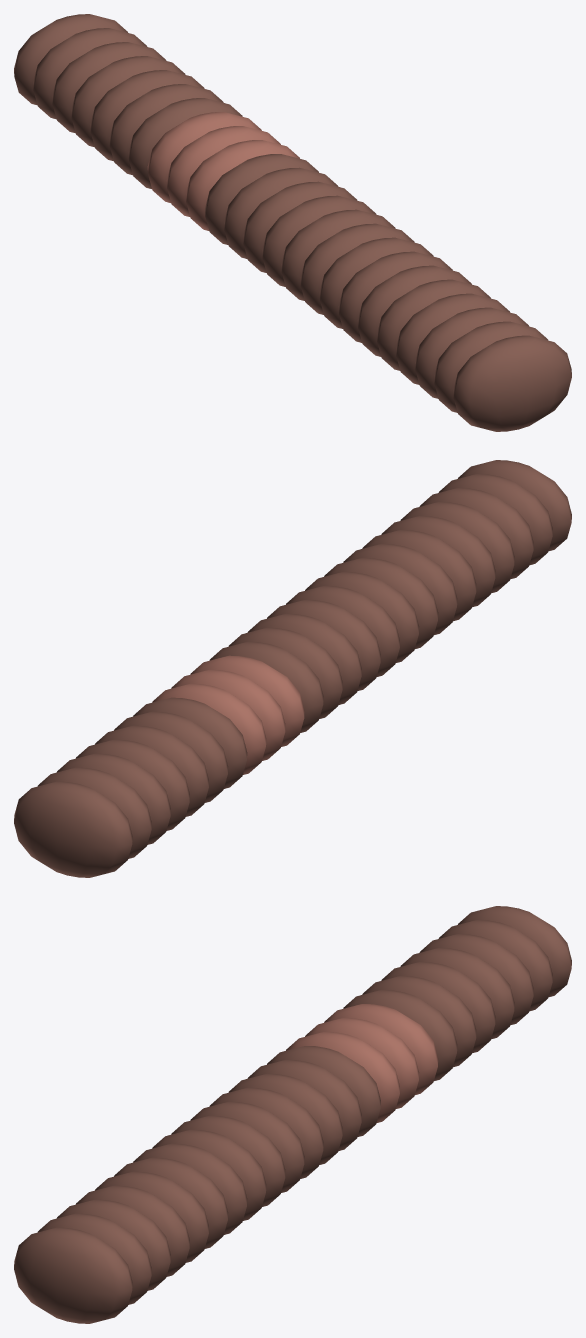
3 renders of one model, top to bottom at view 1: azimuth 30°, elevation 25°; view 2: azimuth 150°, elevation 25°; view 3: azimuth 330°, elevation 25°, orthographic.
Parts seen in each view (by area): view 1: 지렁이; view 2: 지렁이; view 3: 지렁이.
Part boxes in pixels (x1,y1,x2,y2): 지렁이: [14, 14, 571, 431]; 지렁이: [14, 460, 571, 877]; 지렁이: [14, 906, 571, 1323].
Bounding box in the file's own units: 0.035 × 0.0252 × 0.2422.
